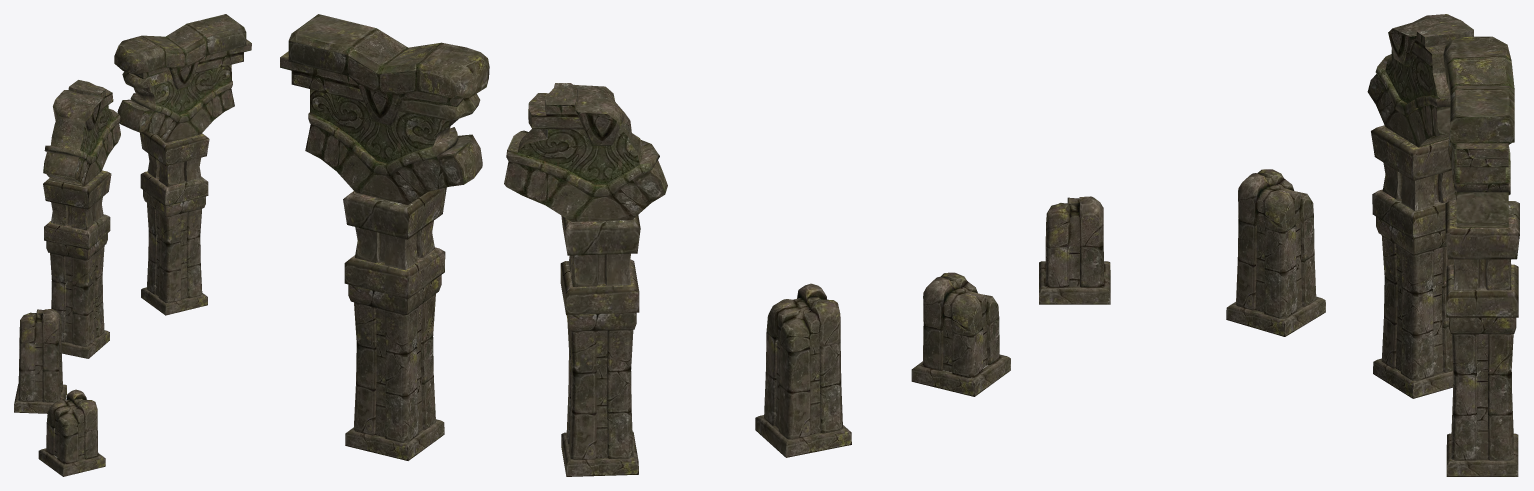
The model's file is Arch_Alley_Rounded_03_c-transformed.glb.
3 renders of one model, left to right at view 1: azimuth 30°, elevation 25°; view 2: azimuth 150°, elevation 25°; view 3: azimuth 270°, elevation 25°, orthographic. The views are drawn at different scales.
Parts seen in each view (by area): view 1: default; view 2: default; view 3: default.
Boxes of the visible parts, left/top/right/bottom form: default: left=14, top=14, right=251, bottom=476; default: left=280, top=14, right=1010, bottom=476; default: left=1039, top=14, right=1519, bottom=476.
Size of the model in its own units: 8.23 by 6.3 by 7.08.
2 materials, 2 textured.
